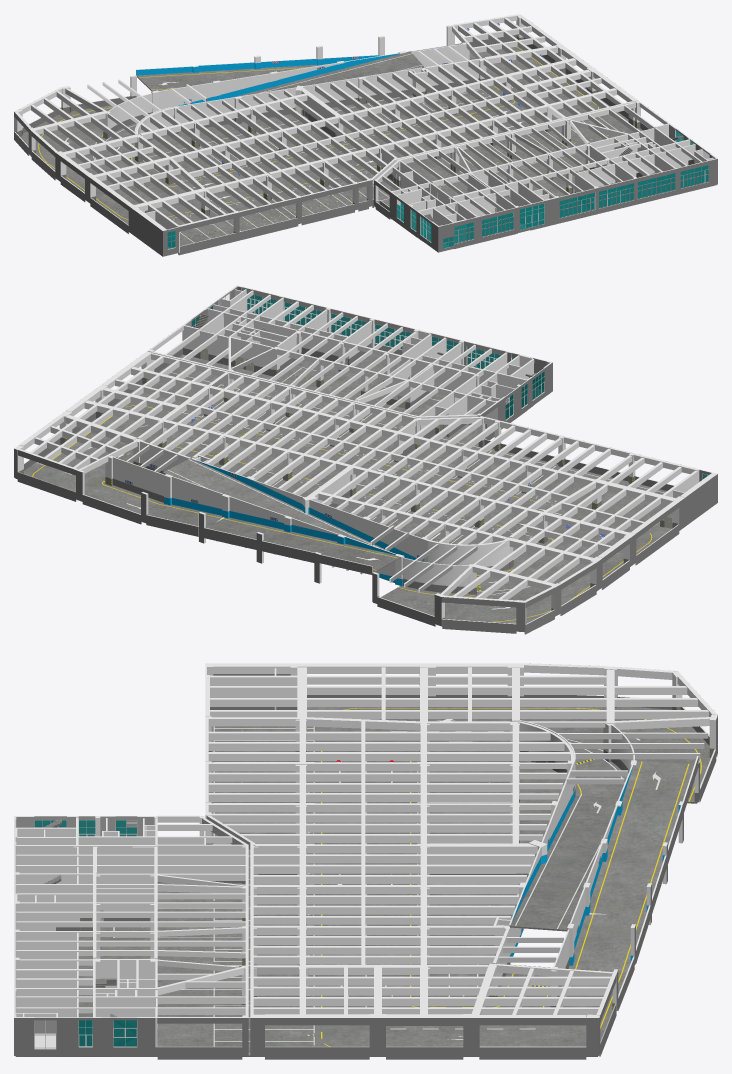
The picture shows the model from 3 angles, top to bottom: view 1: azimuth 30°, elevation 25°; view 2: azimuth 150°, elevation 25°; view 3: azimuth 270°, elevation 25°; orthographic projection. The views are drawn at different scales.
Visible parts, largest first — view 1: 矩形梁, 楼板, 内墙, 外墙踢脚线, 玻璃, 车行道, 内墙柱, 不锈钢, 外墙柱, 内墙踢脚线, 外墙, 车道外墙踢脚线 (+3 smaller); view 2: 矩形梁, 楼板, 内墙, 外墙踢脚线, 车行道, 内墙柱, 外墙, 内墙踢脚线, 车道踢脚线, 玻璃, 外墙柱, 路面标 (+2 smaller); view 3: 矩形梁, 楼板, 车行道, 外墙踢脚线, 内墙, 内墙柱, 外墙, 外墙柱, 路面标, 停车位, 玻璃, 内墙踢脚线 (+3 smaller).
Boxes of the visible parts, left/top/right/bottom form: 矩形梁: left=15, top=14, right=702, bottom=232; 楼板: left=20, top=45, right=716, bottom=253; 内墙: left=108, top=44, right=713, bottom=252; 外墙踢脚线: left=14, top=35, right=717, bottom=256; 玻璃: left=167, top=130, right=708, bottom=248; 车行道: left=137, top=51, right=423, bottom=97; 内墙柱: left=103, top=42, right=610, bottom=230; 不锈钢: left=167, top=135, right=708, bottom=248; 外墙柱: left=14, top=14, right=640, bottom=232; 内墙踢脚线: left=103, top=78, right=687, bottom=215; 外墙: left=14, top=34, right=717, bottom=254; 车道外墙踢脚线: left=136, top=55, right=378, bottom=75; 矩形梁: left=18, top=290, right=714, bottom=606; 楼板: left=15, top=349, right=671, bottom=632; 内墙: left=113, top=289, right=699, bottom=586; 外墙踢脚线: left=14, top=348, right=717, bottom=634; 车行道: left=140, top=458, right=400, bottom=572; 内墙柱: left=105, top=330, right=717, bottom=587; 外墙: left=18, top=285, right=712, bottom=634; 内墙踢脚线: left=105, top=343, right=672, bottom=594; 车道踢脚线: left=164, top=460, right=423, bottom=586; 玻璃: left=191, top=293, right=708, bottom=478; 外墙柱: left=14, top=307, right=684, bottom=624; 路面标: left=32, top=405, right=652, bottom=622; 矩形梁: left=16, top=663, right=717, bottom=1017; 楼板: left=15, top=707, right=710, bottom=1056; 车行道: left=510, top=761, right=694, bottom=972; 外墙踢脚线: left=14, top=663, right=717, bottom=1059; 内墙: left=15, top=668, right=634, bottom=1048; 内墙柱: left=73, top=663, right=636, bottom=996; 外墙: left=14, top=667, right=717, bottom=1056; 外墙柱: left=14, top=663, right=717, bottom=1017; 路面标: left=321, top=708, right=701, bottom=1046; 停车位: left=113, top=726, right=518, bottom=1053; 玻璃: left=34, top=820, right=136, bottom=1046; 内墙踢脚线: left=56, top=707, right=629, bottom=1055.
Bounding box in the file's own units: 104 × 6.84 × 87.26.
34 materials, 2 textured.
